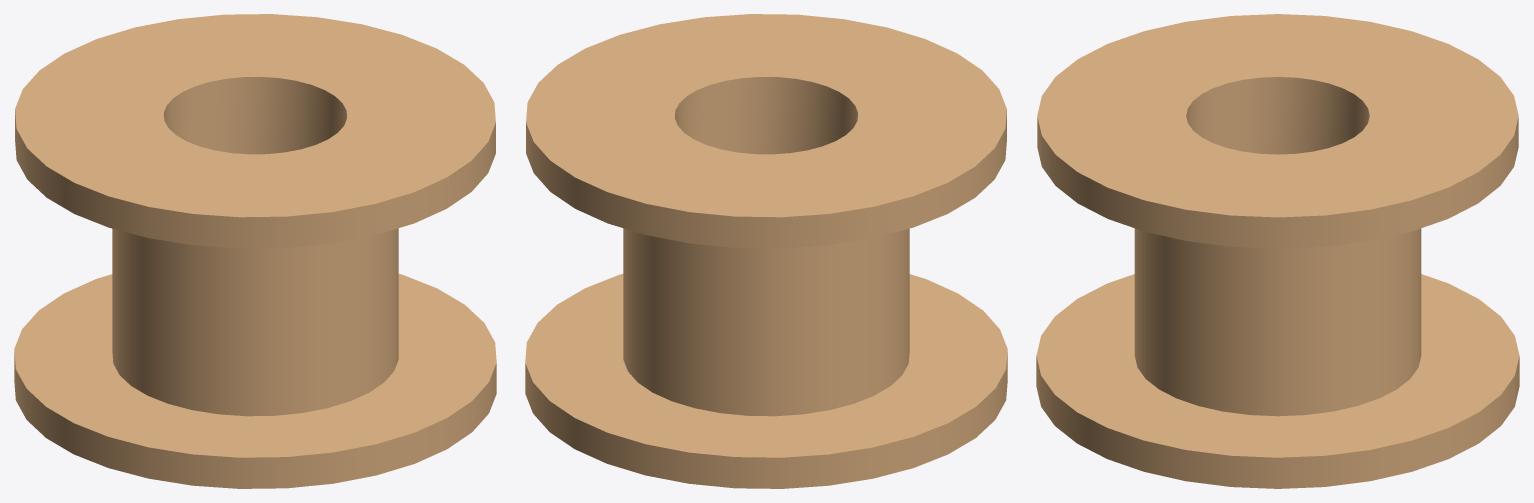
File: katushka.fbx
3 renders of one model, left to right at view 1: azimuth 30°, elevation 25°; view 2: azimuth 150°, elevation 25°; view 3: azimuth 270°, elevation 25°, orthographic.
Parts seen in each view (by area): view 1: Circle; view 2: Circle; view 3: Circle.
Boxes of the visible parts, x1,y1,x2,y2 form: Circle: (14, 14, 496, 488); Circle: (525, 14, 1007, 488); Circle: (1036, 14, 1519, 488).
Size of the model in its own units: 397 by 246 by 397.
